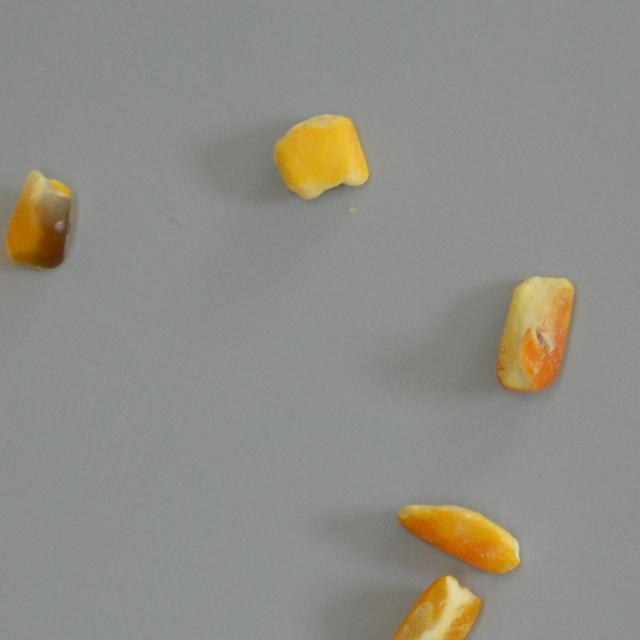dañado: (469, 270, 582, 400), (392, 472, 524, 580), (264, 101, 378, 209), (0, 168, 94, 276), (374, 570, 487, 640)
